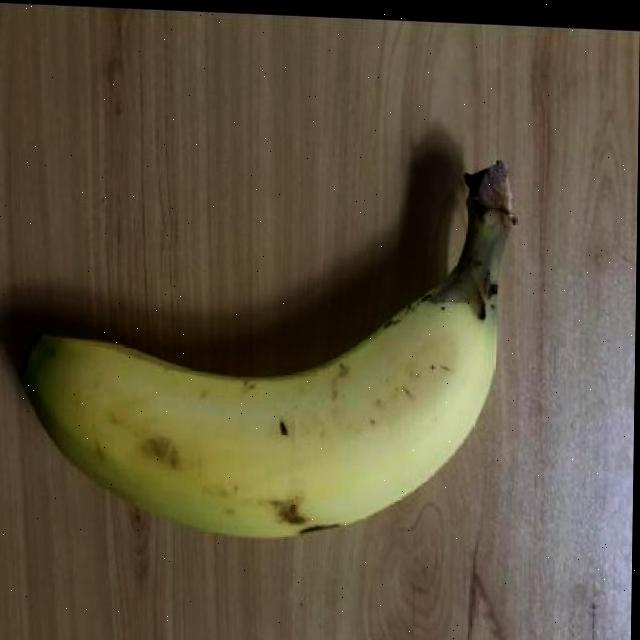banana: (14, 123, 522, 555)
